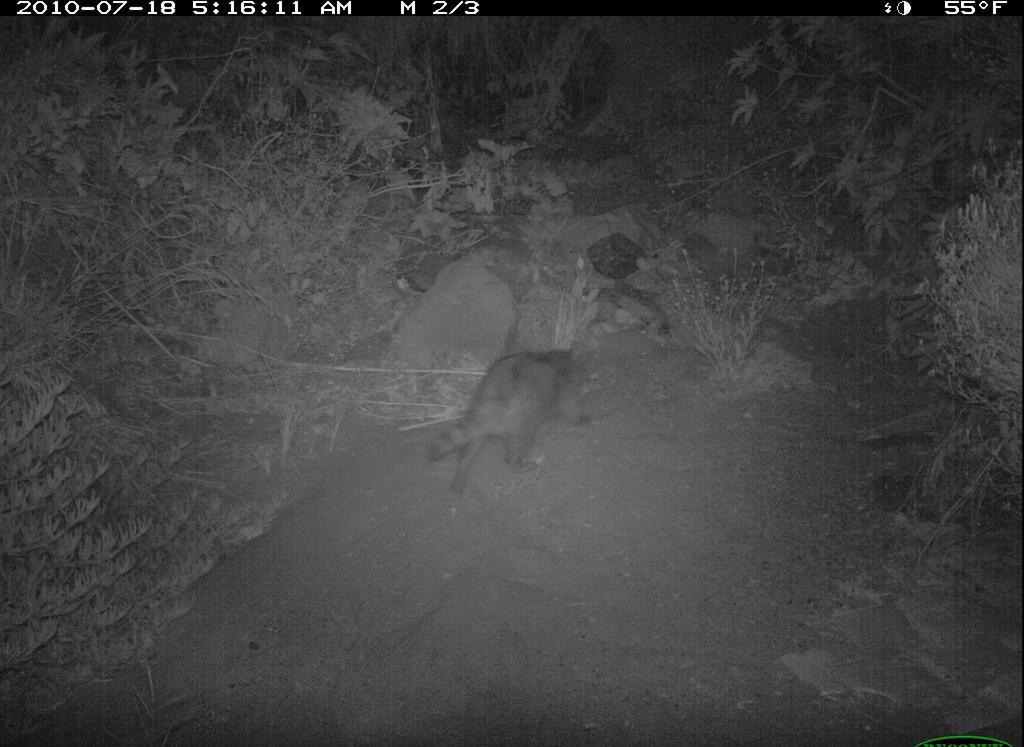raccoon: (424, 336, 607, 502)
